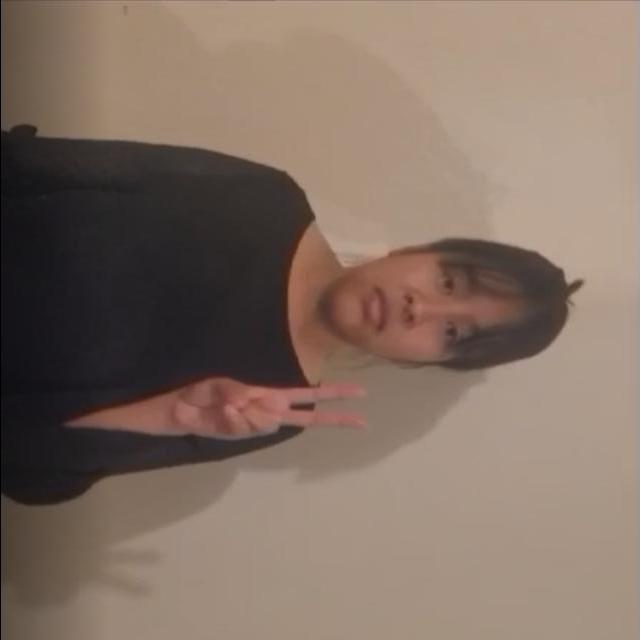V: (162, 359, 378, 450)
